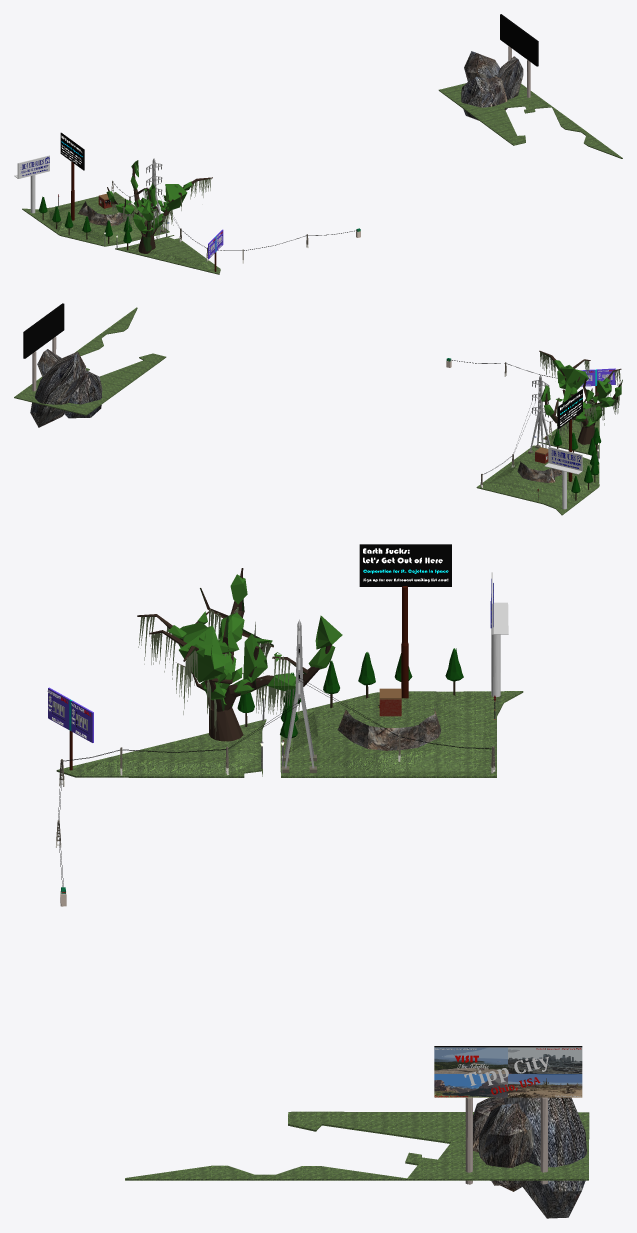
The model's file is Neighborhood.glb.
3 renders of one model, top to bottom at view 1: azimuth 30°, elevation 25°; view 2: azimuth 150°, elevation 25°; view 3: azimuth 270°, elevation 25°, orthographic. The views are drawn at different scales.
Parts seen in each view (by area): view 1: Ground, Ground.002, Rock, Leaves, Ground.001, Sign.002, Trunk, Spanish Moss, Leaves.001, BB Space, BillboardBack.001, Tower; view 2: Ground, Rock, Ground.002, Leaves, Sign.002, Trunk, Spanish Moss, Leaves.001, Ground.001, Tower, BB Space, BillboardBack.001 (+2 smaller); view 3: Ground, Ground.002, Rock, Sign.002, Ground.001, Leaves, BB Space, Trunk, Spanish Moss, Leaves.001, Stand.001, BillboardBack (+5 smaller).
Part boxes in pixels (x1=…): Ground: x1=22, y1=192, x2=169, y2=246; Ground.002: x1=438, y1=83, x2=622, y2=158; Rock: x1=461, y1=51, x2=523, y2=120; Leaves: x1=106, y1=160, x2=192, y2=233; Ground.001: x1=115, y1=235, x2=220, y2=274; Sign.002: x1=500, y1=14, x2=538, y2=66; Trunk: x1=107, y1=164, x2=212, y2=253; Spanish Moss: x1=112, y1=178, x2=211, y2=243; Leaves.001: x1=39, y1=196, x2=132, y2=243; BB Space: x1=60, y1=132, x2=84, y2=170; BillboardBack.001: x1=17, y1=155, x2=49, y2=178; Tower: x1=146, y1=158, x2=163, y2=230; Ground: x1=476, y1=445, x2=599, y2=515; Rock: x1=30, y1=349, x2=102, y2=427; Ground.002: x1=14, y1=307, x2=166, y2=415; Leaves: x1=541, y1=360, x2=621, y2=426; Sign.002: x1=23, y1=303, x2=64, y2=358; Trunk: x1=539, y1=350, x2=622, y2=445; Spanish Moss: x1=540, y1=352, x2=620, y2=438; Leaves.001: x1=553, y1=427, x2=601, y2=493; Ground.001: x1=538, y1=413, x2=599, y2=458; Tower: x1=530, y1=375, x2=550, y2=451; BB Space: x1=557, y1=389, x2=582, y2=429; BillboardBack.001: x1=548, y1=447, x2=582, y2=470; Ground: x1=280, y1=691, x2=523, y2=777; Ground.002: x1=125, y1=1111, x2=589, y2=1180; Rock: x1=473, y1=1097, x2=587, y2=1218; Sign.002: x1=434, y1=1046, x2=582, y2=1097; Ground.001: x1=56, y1=719, x2=266, y2=777; Leaves: x1=168, y1=574, x2=342, y2=706; BB Space: x1=359, y1=544, x2=451, y2=586; Trunk: x1=137, y1=568, x2=331, y2=741; Spanish Moss: x1=138, y1=607, x2=300, y2=738; Leaves.001: x1=237, y1=648, x2=463, y2=738; Stand.001: x1=465, y1=1097, x2=547, y2=1184; BillboardBack: x1=48, y1=687, x2=93, y2=742.
Bounding box in the file's own units: 196 × 40.47 × 89.42.
Materials: 58 (5 with a texture image).
